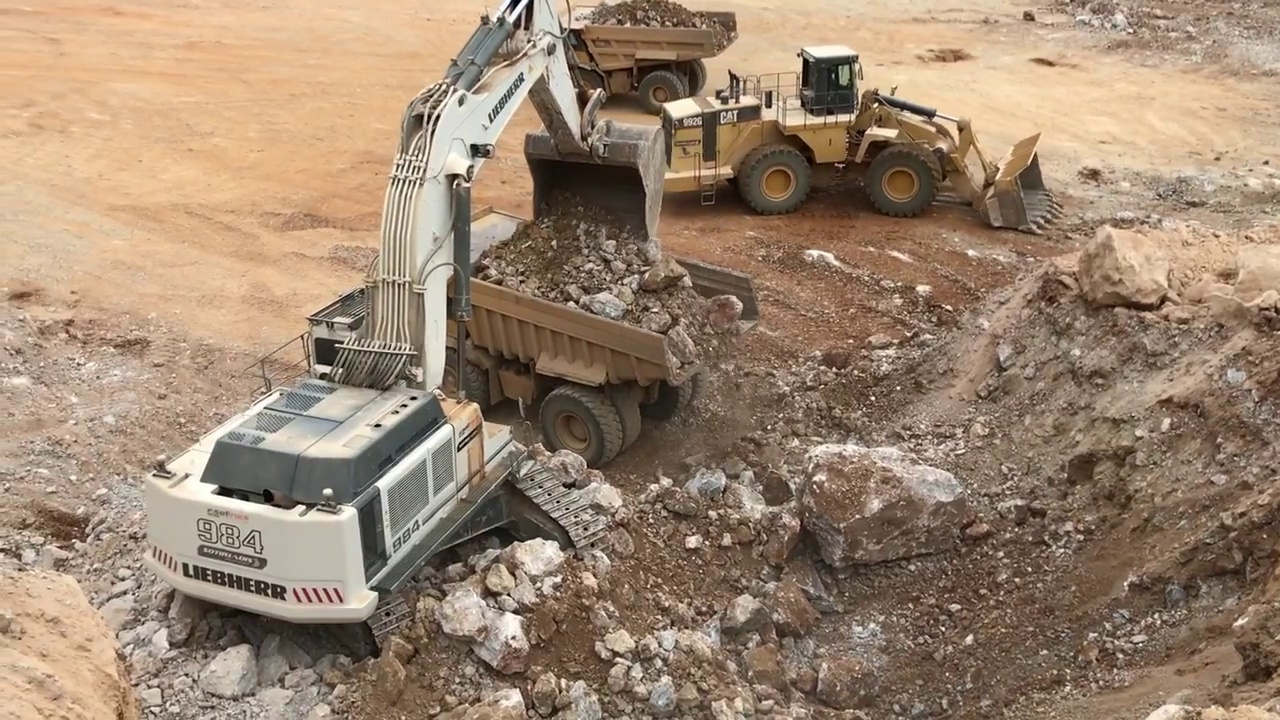dumper: (402, 203, 764, 462), (539, 8, 737, 114)
excavator: (142, 2, 668, 668)
wheel loader: (660, 45, 1066, 237)
